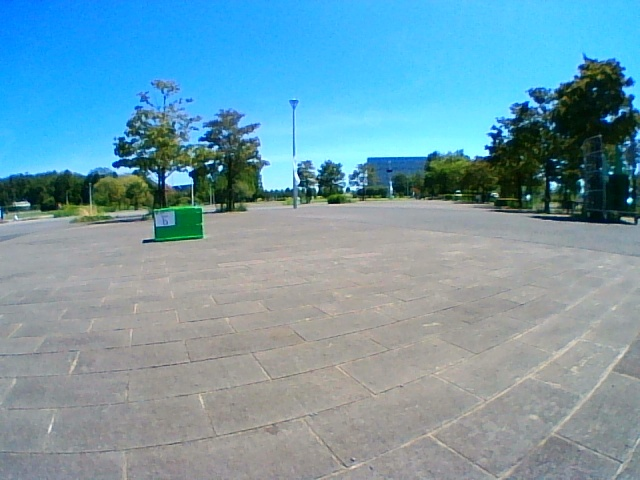green_box: (154, 207, 204, 241)
tag_b: (156, 211, 174, 226)
